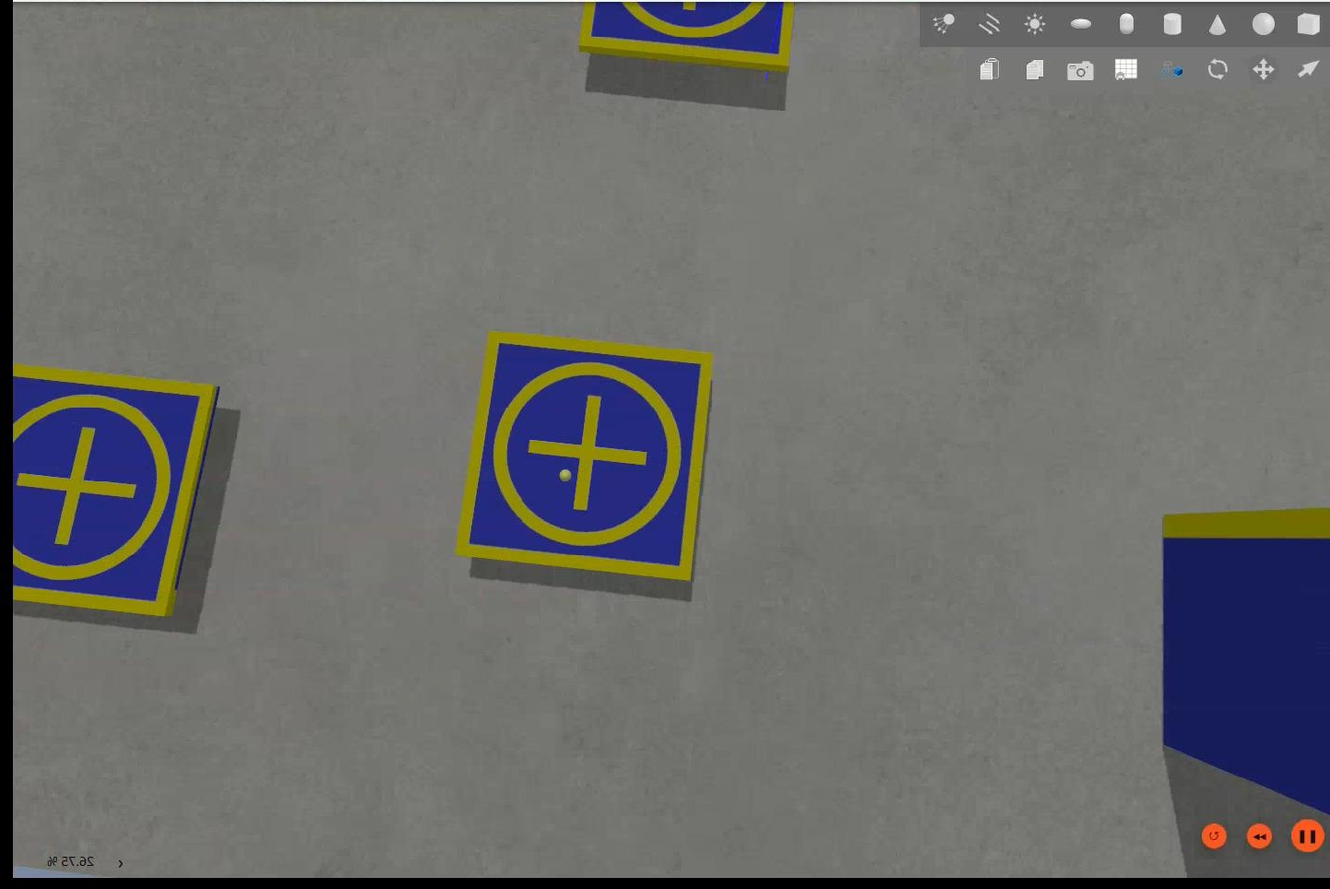small_base: (449, 332, 713, 589), (10, 363, 220, 621), (576, 1, 790, 73)
